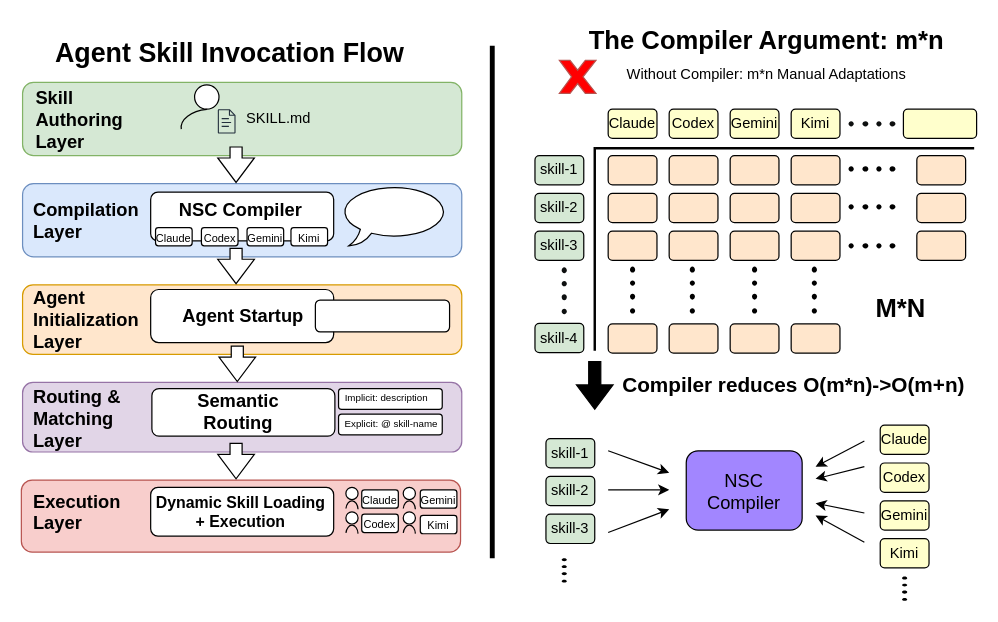
The diagram is 998 pixels wide and 622 high, and some of its shapes have lost their labels. Here are the shapes that lost their labels. From the top down, the box of each, then its label:
(902, 108, 977, 138): Platform-n
(339, 184, 450, 246): Write once Run anywher
(314, 299, 450, 332): routing_manifest.yaml only ~50tokens/skill
